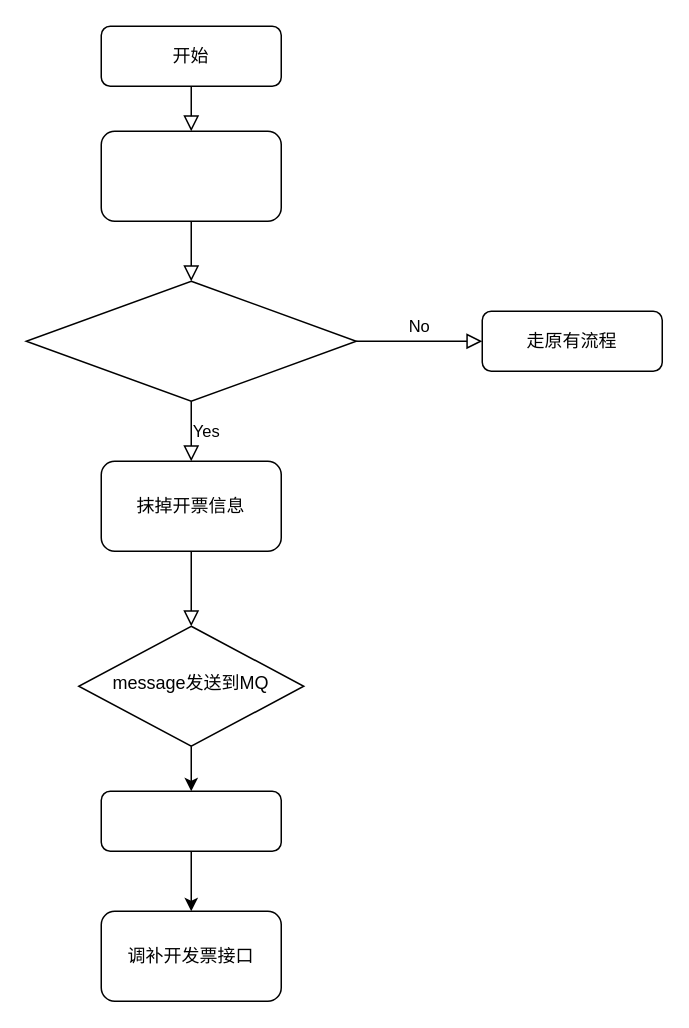
Image size: 689x1028. Some labels were removed from this diagram. Each missing label, with the box of its shape:
orderfrom == 8623 && email=jd_hotel@jd.com: (25, 280, 356, 401)
分销商调用成单接口: (100, 130, 281, 221)
延时队列: (100, 790, 281, 851)
